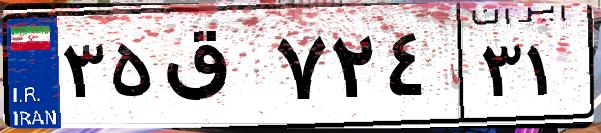1: (525, 38, 570, 115)
2: (330, 28, 385, 110)
3: (57, 26, 110, 100), (475, 38, 525, 113)
4: (385, 28, 445, 110)
5: (110, 28, 158, 98)
7: (270, 28, 330, 110)
ق: (158, 20, 270, 120)
